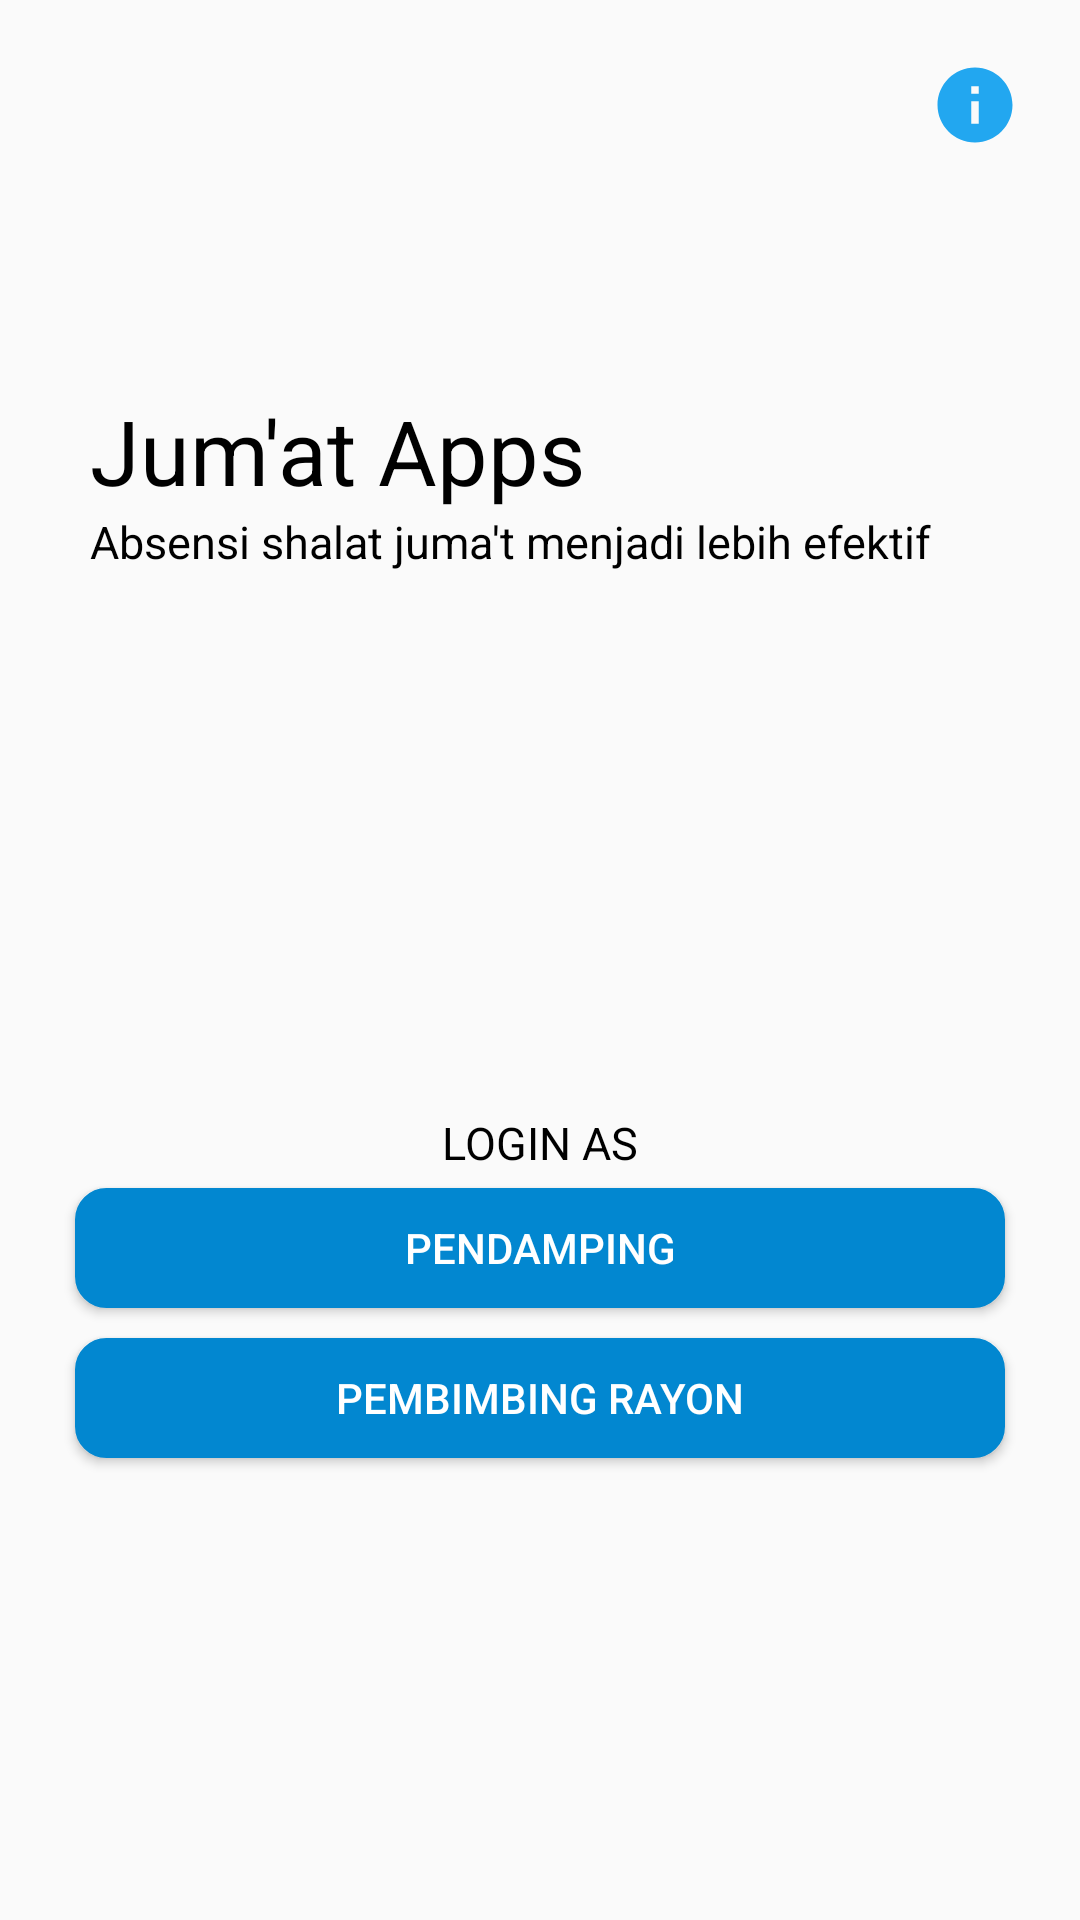

Locate icon controls on the screen. Image size 1080 × 1920, boxes as [x1, y1, x2, y2].
info: [937, 67, 1013, 143]
